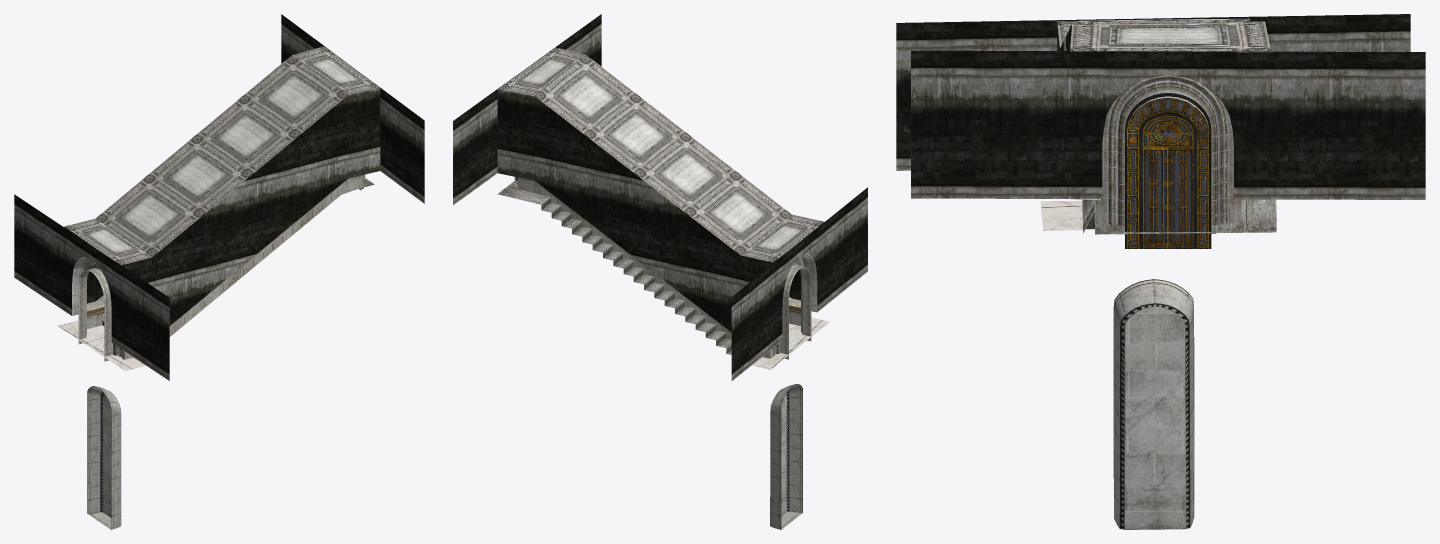
Rendered from Hallway_Stairs.FBX.
3 views of the same model, side by side, from view 1: azimuth 30°, elevation 25°; view 2: azimuth 150°, elevation 25°; view 3: azimuth 270°, elevation 25° (orthographic). The views are drawn at different scales.
Visible parts, largest first — view 1: SM_L_Hallway_Stairs; view 2: SM_L_Hallway_Stairs; view 3: SM_L_Hallway_Stairs.
Part boxes in pixels (bbox=[...]): SM_L_Hallway_Stairs: bbox=[14, 14, 424, 529]; SM_L_Hallway_Stairs: bbox=[453, 14, 867, 529]; SM_L_Hallway_Stairs: bbox=[896, 14, 1425, 529].
Size of the model in its own units: 1028 by 977 by 1406.
